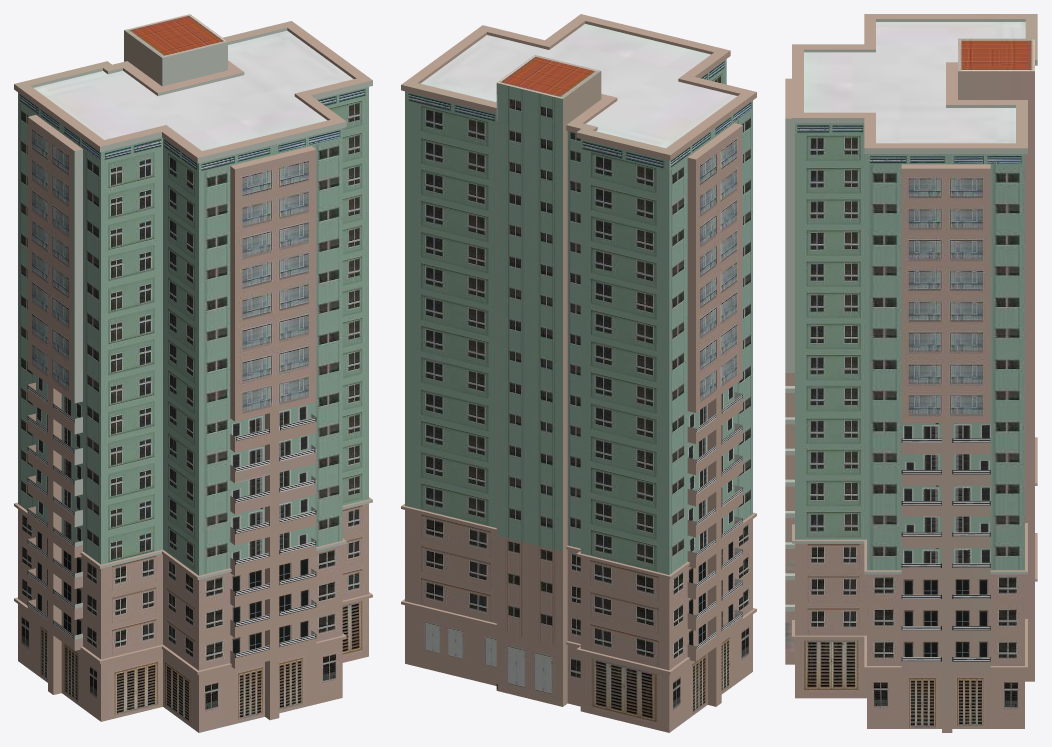
3 views of the same model, side by side, from view 1: azimuth 30°, elevation 25°; view 2: azimuth 150°, elevation 25°; view 3: azimuth 270°, elevation 25° (orthographic).
Parts seen in each view (by area): view 1: HN497___B10B_Nguyen_Chanh; view 2: HN497___B10B_Nguyen_Chanh; view 3: HN497___B10B_Nguyen_Chanh.
Part boxes in pixels (x1,y1,x2,y2): HN497___B10B_Nguyen_Chanh: (14, 14, 372, 732); HN497___B10B_Nguyen_Chanh: (401, 14, 756, 732); HN497___B10B_Nguyen_Chanh: (785, 14, 1037, 732).
Bounding box in the file's own units: 34.01 × 69.1 × 25.91.
1 material, 1 textured.
